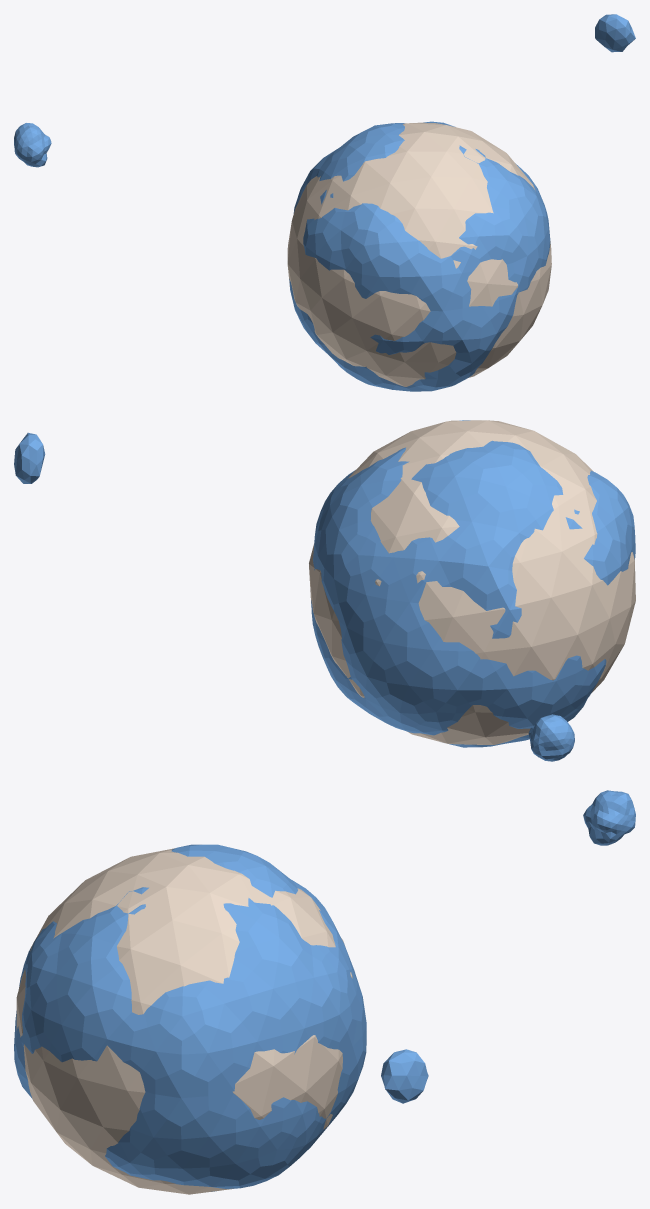
The model's file is planet_6(animated_moon).fbx.
3 renders of one model, top to bottom at view 1: azimuth 30°, elevation 25°; view 2: azimuth 150°, elevation 25°; view 3: azimuth 270°, elevation 25°, orthographic. The views are drawn at different scales.
Parts seen in each view (by area): view 1: planet6_white_clouds, planet6_blue_clouds, planet6_moon2, planet6_moon1; view 2: planet6_blue_clouds, planet6_white_clouds, planet6_moon2, planet6_moon1; view 3: planet6_blue_clouds, planet6_white_clouds, planet6_moon2, planet6_moon1.
Part boxes in pixels (<box>): planet6_white_clouds: <box>287,122,551,386</box>; planet6_blue_clouds: <box>289,121,550,391</box>; planet6_moon2: <box>14,123,51,167</box>; planet6_moon1: <box>595,14,635,52</box>; planet6_blue_clouds: <box>311,420,635,747</box>; planet6_white_clouds: <box>309,420,635,744</box>; planet6_moon2: <box>528,714,574,761</box>; planet6_moon1: <box>14,432,45,483</box>; planet6_blue_clouds: <box>14,844,366,1191</box>; planet6_white_clouds: <box>16,848,352,1194</box>; planet6_moon2: <box>583,790,635,845</box>; planet6_moon1: <box>381,1049,428,1103</box>.
Size of the model in its own units: 241 by 106 by 187.
